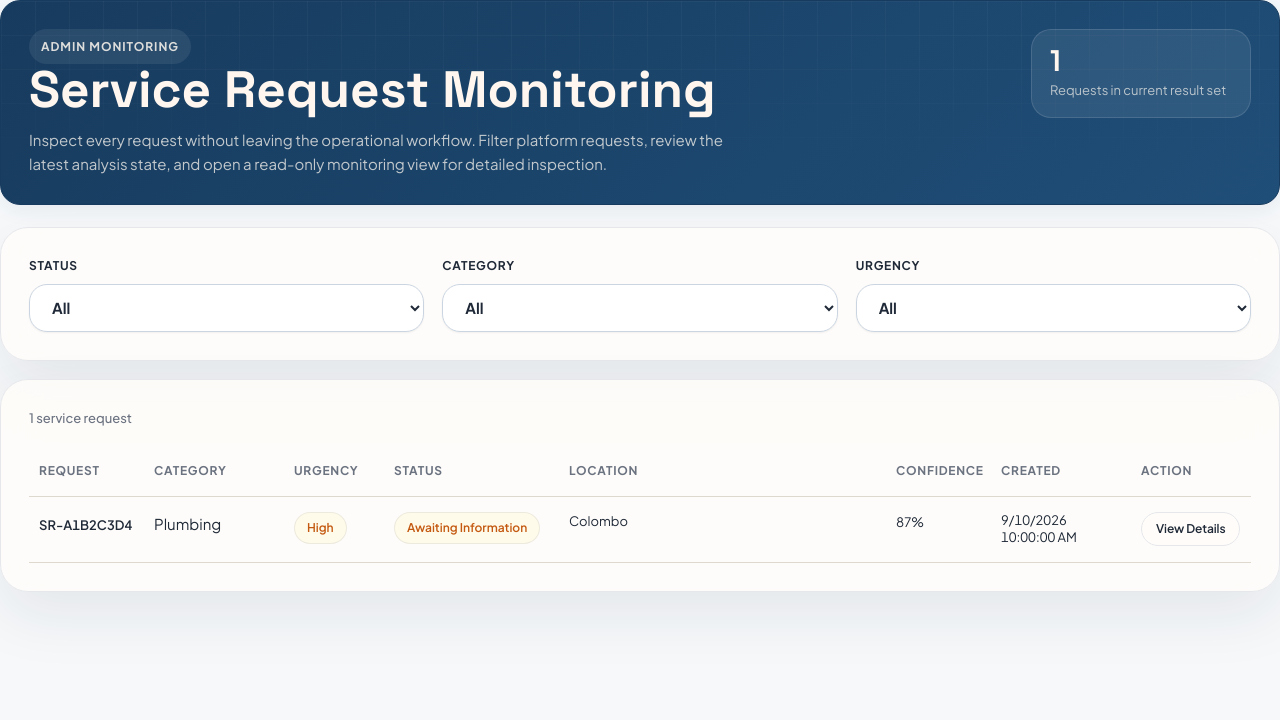
Test case: Admin monitoring list › refreshes using the Status filter
Expected: the table is shown, [29, 408, 1251, 563]
Select "Analyzed" in the dropdown labelled "Status". click: (227, 308)
box: [29, 284, 424, 332]
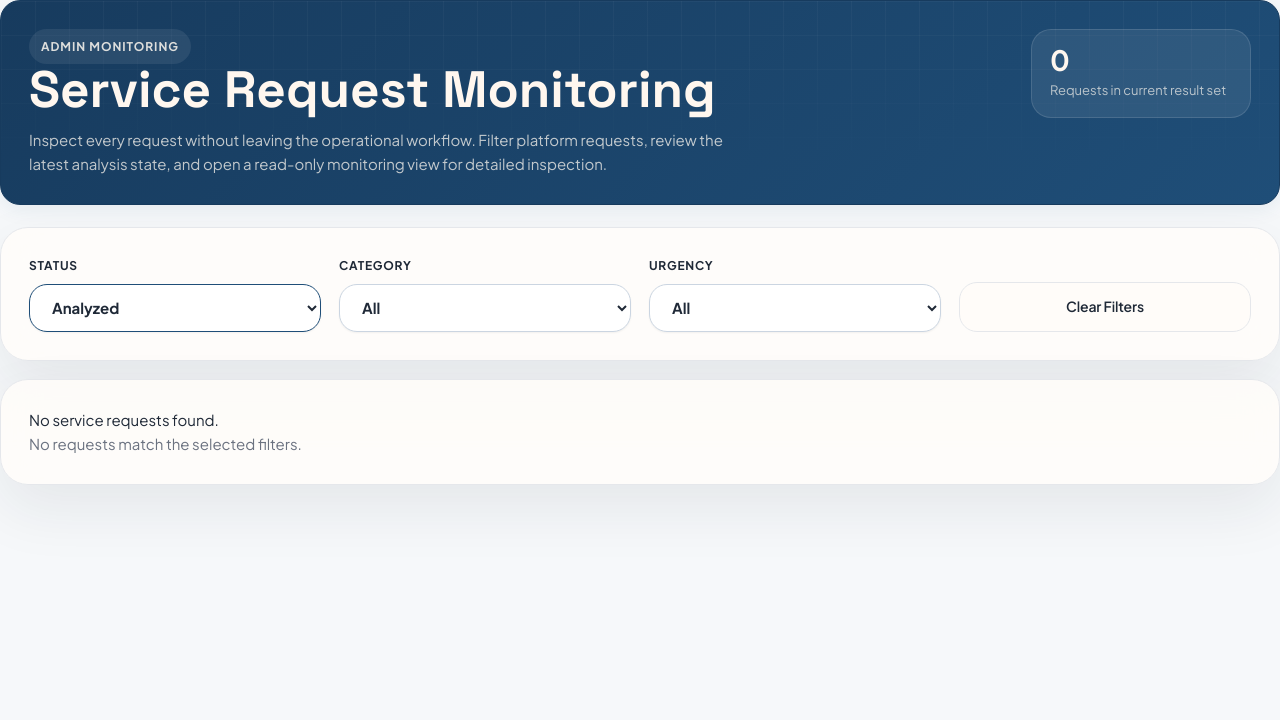
Expected: the text "No requests match the selected filters." is shown, [29, 434, 302, 453]
